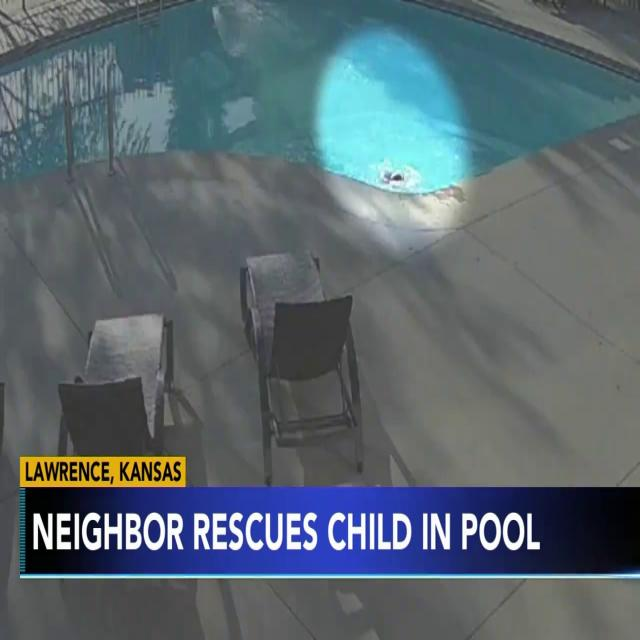child: (379, 168, 407, 189)
